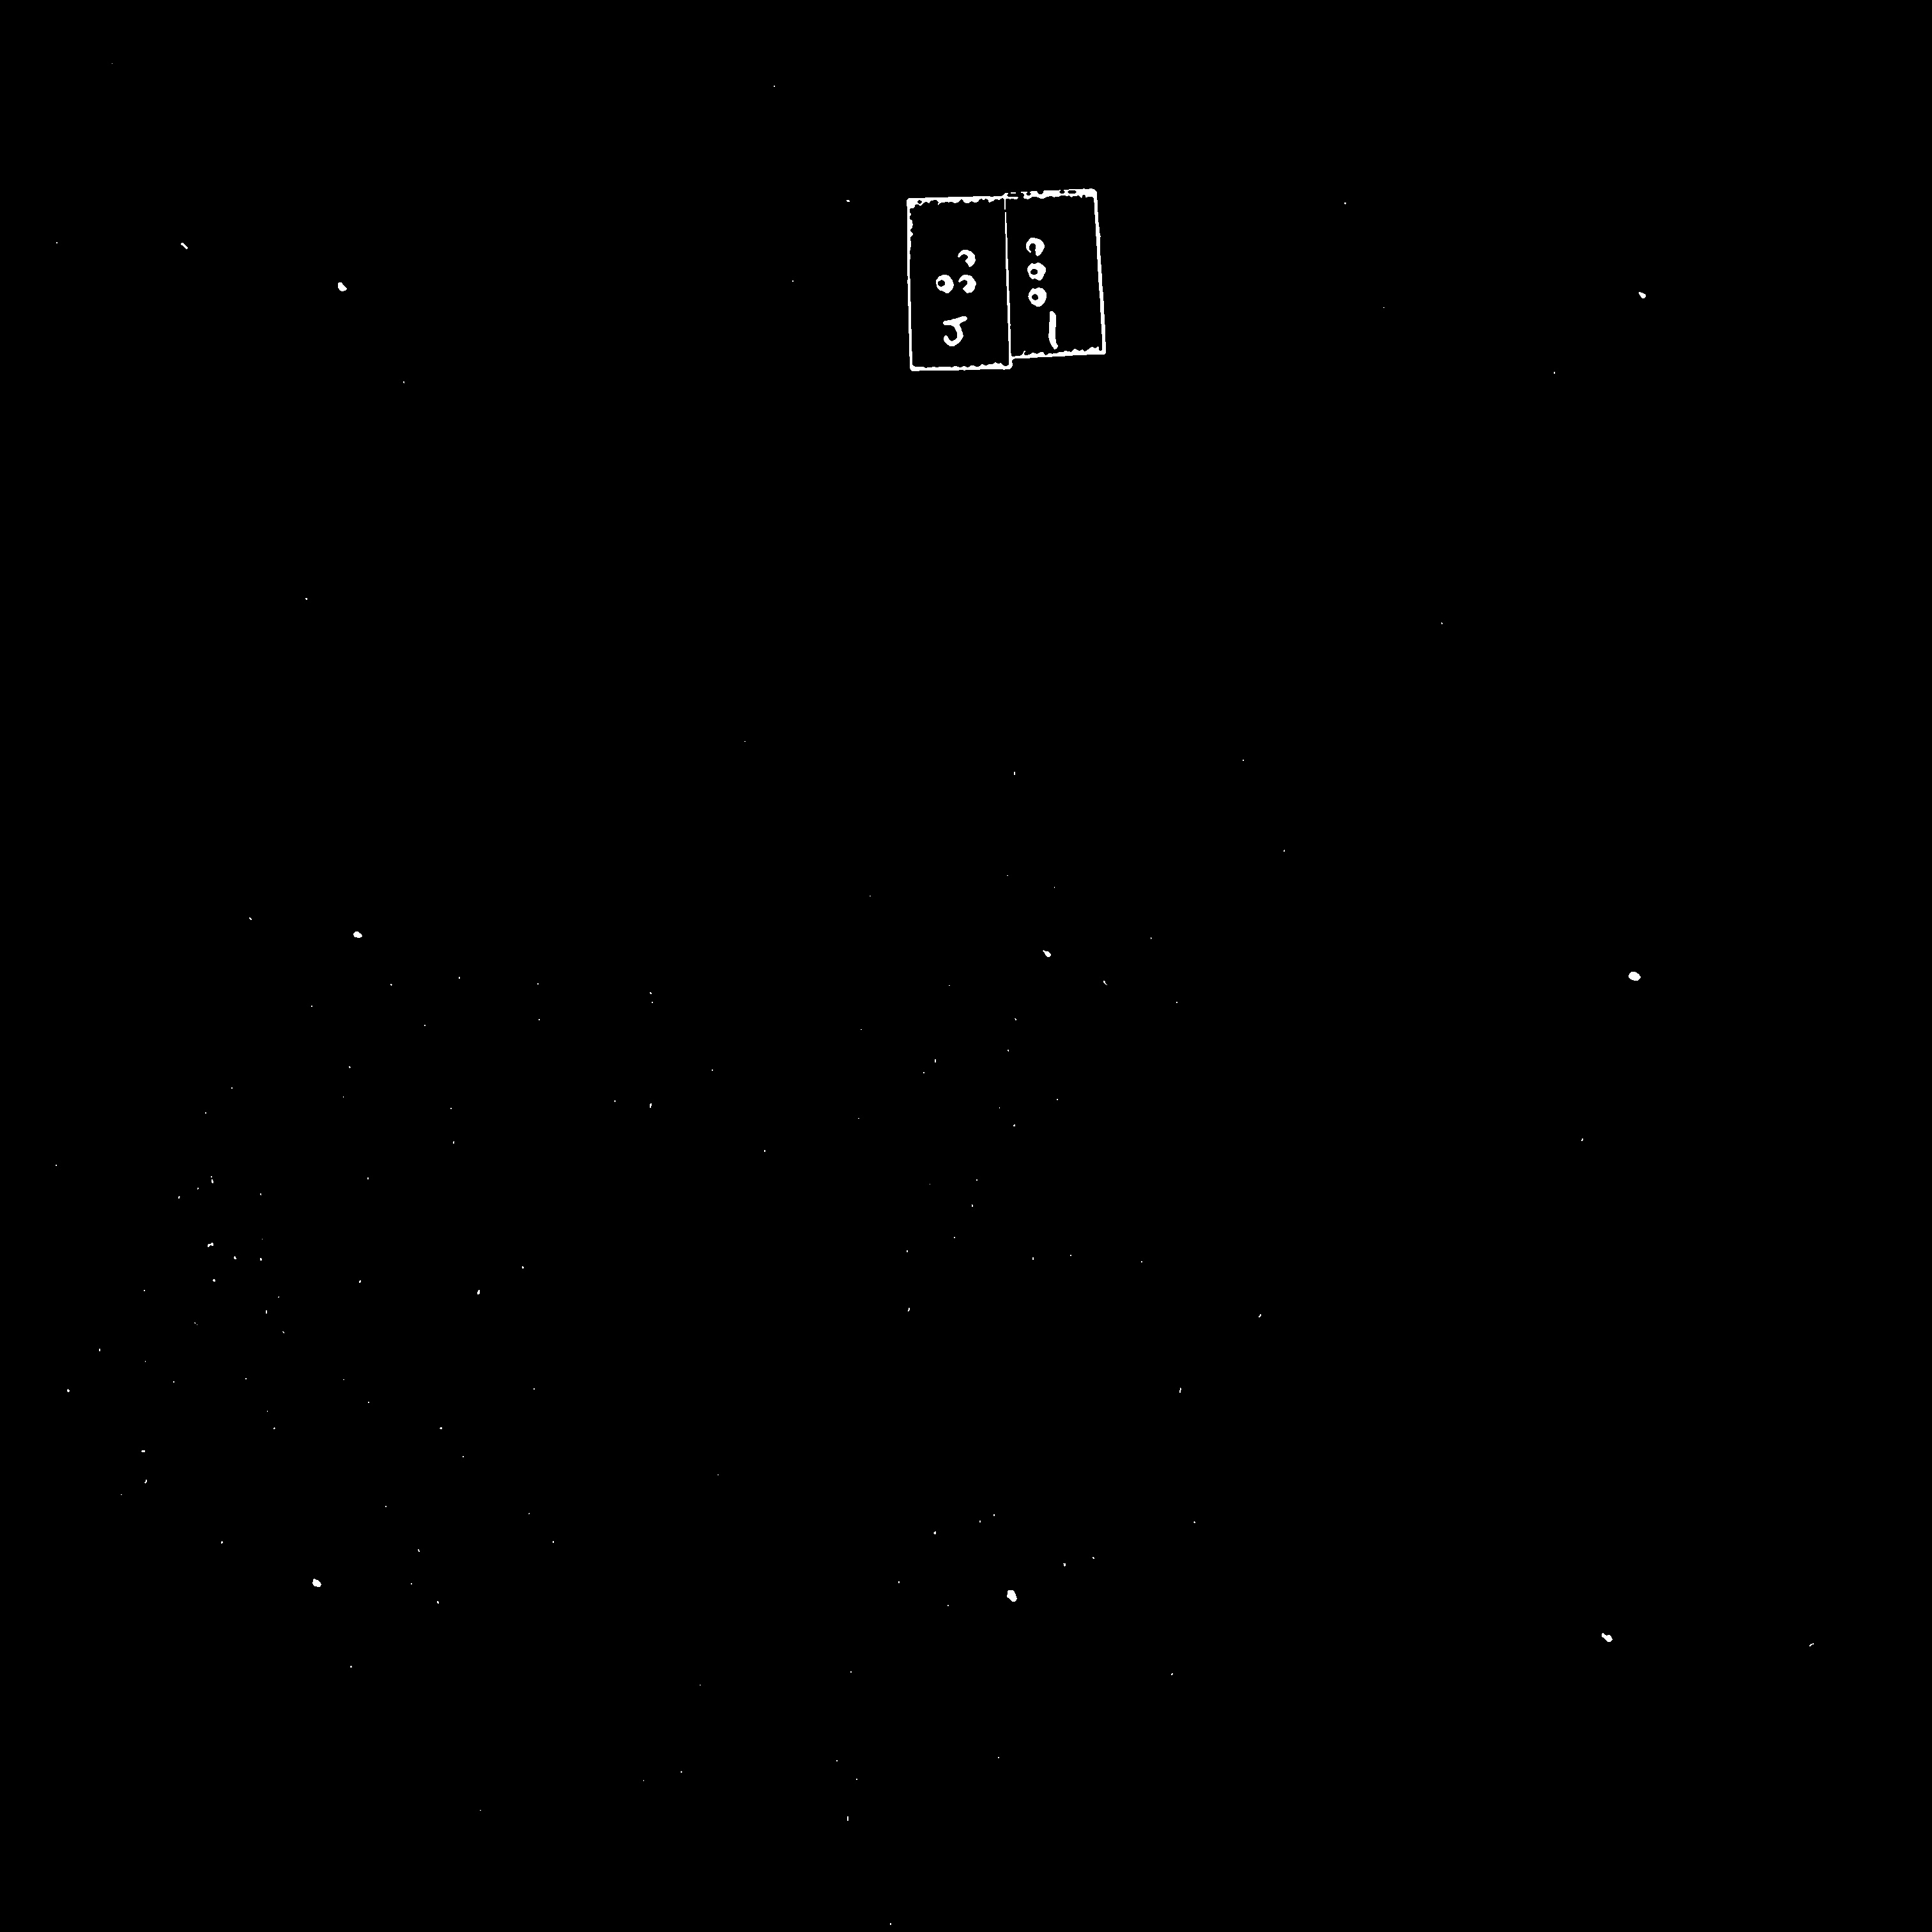j: (928, 233, 988, 310)
l: (1011, 220, 1075, 310)
